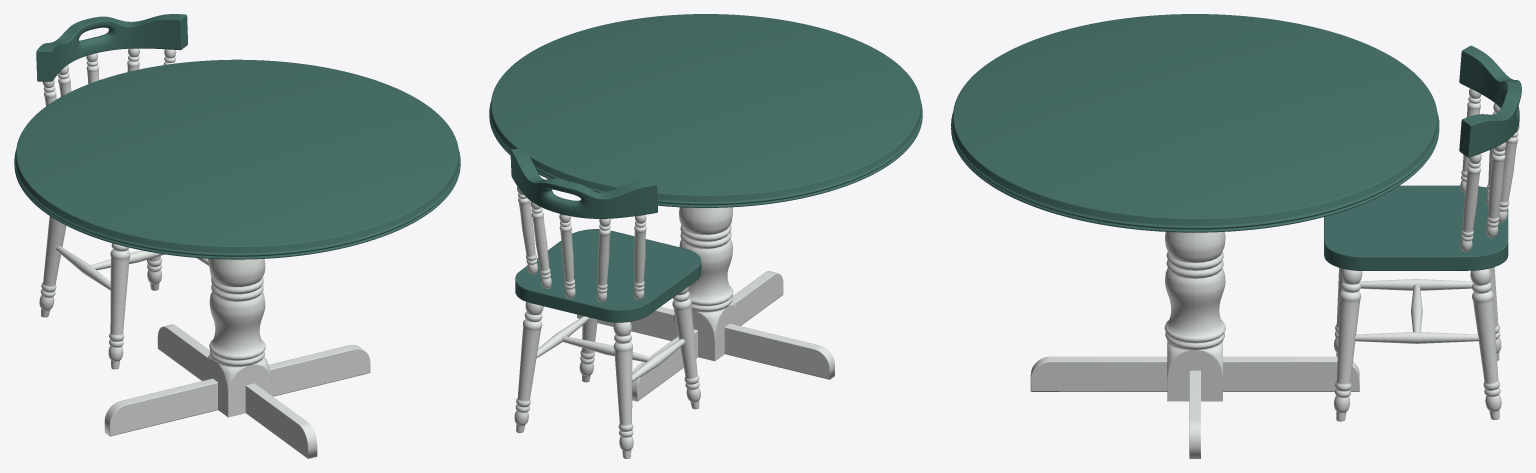
File: center.glb
3 renders of one model, left to right at view 1: azimuth 30°, elevation 25°; view 2: azimuth 150°, elevation 25°; view 3: azimuth 270°, elevation 25°, orthographic. The views are drawn at different scales.
Parts seen in each view (by area): view 1: Top, Leg, Table Leg Support 1, Back Rest.001, Table Leg Support 2, Chair Leg 4, Chair Leg 3, Support Piece 3; view 2: Top, Chair Seat, Leg, Back Rest.001, Table Leg Support 1, Table Leg Support 2, Chair Leg 3, Chair Leg 2, Chair Leg 4, Back Rest Upright 5, Back Rest Upright 2, Back Rest Upright 4 (+6 smaller); view 3: Top, Chair Seat, Leg, Table Leg Support 2, Back Rest.001, Chair Leg 1, Chair Leg 2, Support Piece 1, Back Rest Upright 1, Back Rest Upright 2, Support Piece 3, Table Leg Support 1 (+1 smaller).
Part boxes in pixels (box(x1,y1,x2,y2)): Top: box(14, 59, 460, 259); Leg: box(202, 259, 272, 417); Table Leg Support 1: box(104, 345, 370, 436); Back Rest.001: box(36, 14, 187, 81); Table Leg Support 2: box(157, 324, 317, 458); Chair Leg 4: box(108, 243, 130, 369); Chair Leg 3: box(39, 216, 66, 317); Support Piece 3: box(56, 246, 110, 290); Top: box(489, 14, 922, 207); Chair Seat: box(515, 229, 701, 322); Leg: box(672, 207, 739, 361); Back Rest.001: box(510, 148, 657, 218); Table Leg Support 1: box(577, 306, 834, 379); Table Leg Support 2: box(632, 271, 783, 401); Chair Leg 3: box(613, 322, 633, 458); Chair Leg 2: box(514, 302, 543, 432); Chair Leg 4: box(672, 286, 700, 409); Back Rest Upright 5: box(633, 214, 646, 299); Back Rest Upright 2: box(530, 201, 551, 288); Back Rest Upright 4: box(596, 218, 610, 302); Top: box(951, 14, 1439, 232); Chair Seat: box(1324, 185, 1508, 270); Leg: box(1164, 232, 1225, 401); Table Leg Support 2: box(1030, 356, 1359, 391); Back Rest.001: box(1459, 45, 1521, 157); Chair Leg 1: box(1334, 269, 1362, 421); Chair Leg 2: box(1470, 268, 1501, 419); Support Piece 1: box(1355, 332, 1478, 343); Back Rest Upright 1: box(1460, 153, 1481, 251); Back Rest Upright 2: box(1486, 142, 1506, 237); Support Piece 3: box(1359, 279, 1473, 290); Table Leg Support 1: box(1189, 370, 1200, 458).
Size of the model in its own units: 1.21 by 0.8307 by 1.41.
